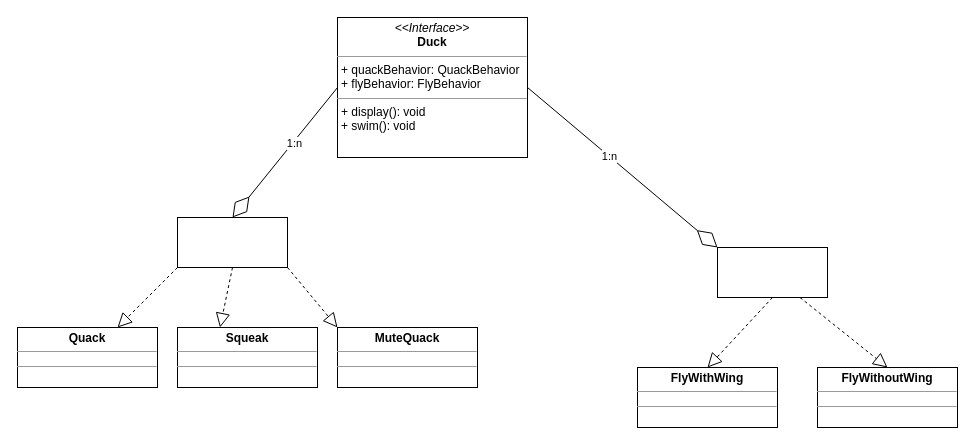
Image size: 975x445. Some labels were removed from this diagram. Here are the shapes that lost their labels. From the top down, the centre of each, then its label:
point 232,242: «QuackBehavior» quack()
point 772,272: «FlyBehavior» fly()
